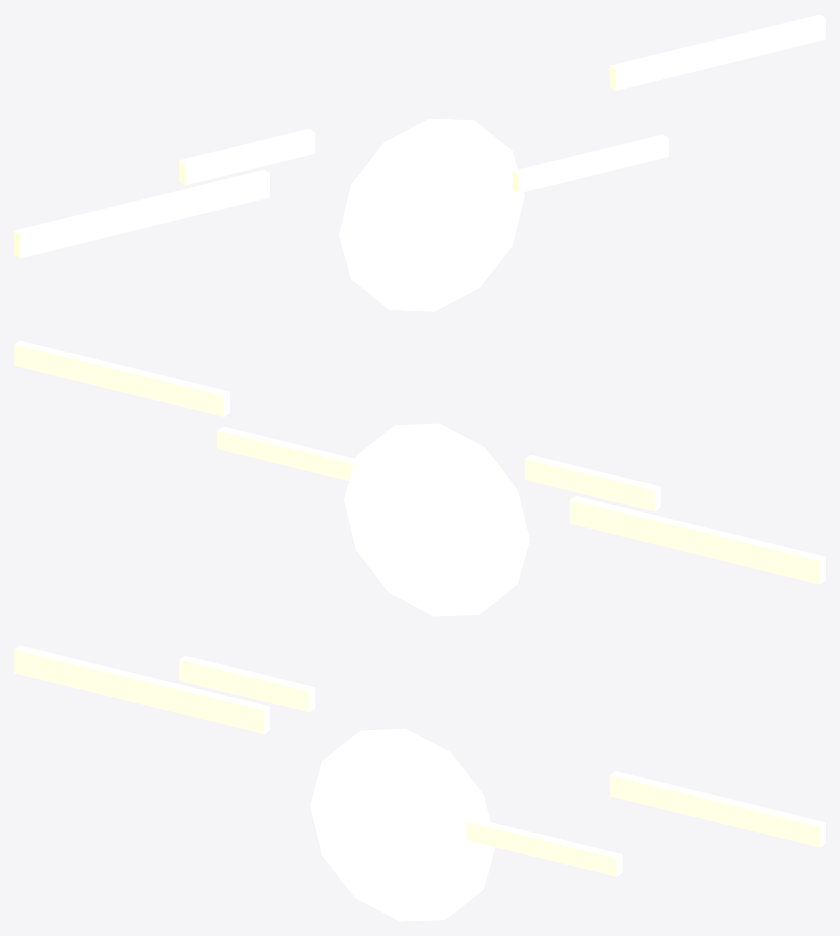
File: sun.glb
3 views of the same model, one above another, from view 1: azimuth 30°, elevation 25°; view 2: azimuth 150°, elevation 25°; view 3: azimuth 330°, elevation 25° (orthographic).
Parts seen in each view (by area): view 1: Sun; view 2: Sun; view 3: Sun.
Part boxes in pixels (x1,y1,x2,y2): Sun: (14, 14, 825, 311); Sun: (14, 340, 825, 616); Sun: (14, 645, 825, 921).
Bounding box in the file's own units: 16.1 × 3.7 × 1.
